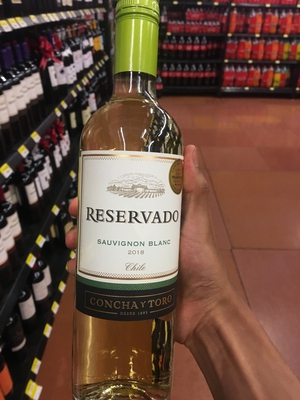reservado sauvignon blanc: (71, 21, 197, 385)
